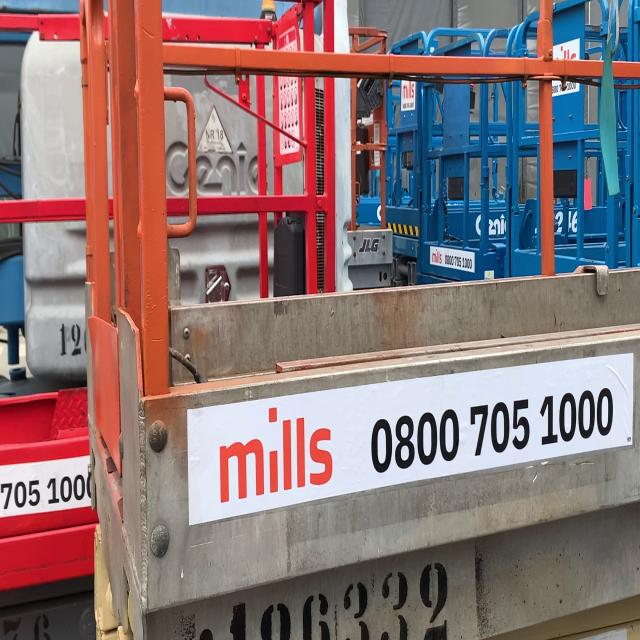Adesivo Longo: (184, 341, 637, 537)
